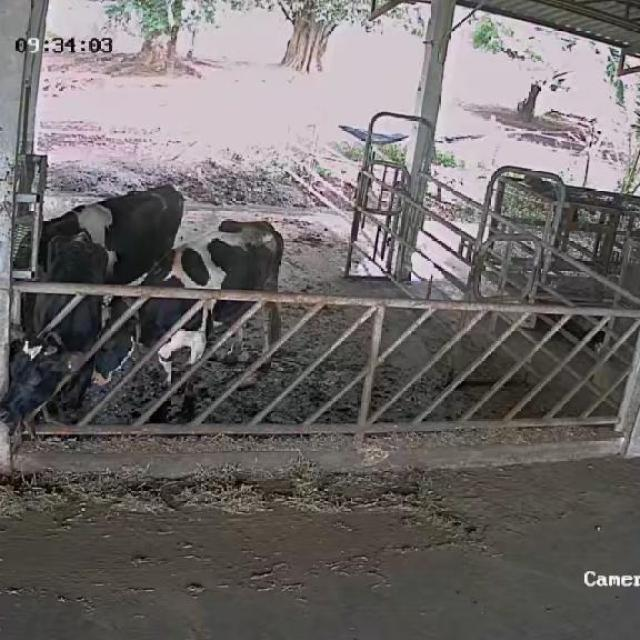feeding: (2, 234, 108, 456)
standing: (82, 219, 286, 407), (8, 186, 190, 324)
